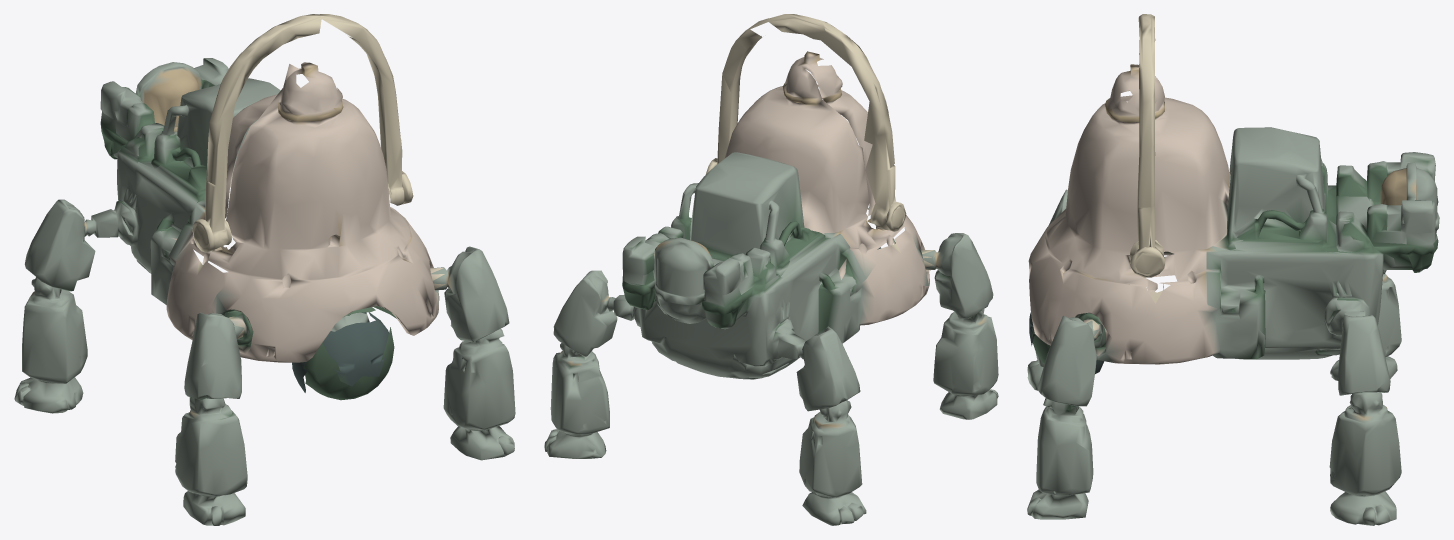
Rendered from body.glb.
The picture shows the model from 3 angles, left to right: view 1: azimuth 30°, elevation 25°; view 2: azimuth 150°, elevation 25°; view 3: azimuth 270°, elevation 25°; orthographic projection. The views are drawn at different scales.
Parts seen in each view (by area): view 1: bell walker tripo; view 2: bell walker tripo; view 3: bell walker tripo.
Part boxes in pixels (x1,y1,x2,y2): bell walker tripo: [14, 14, 515, 525]; bell walker tripo: [544, 14, 998, 525]; bell walker tripo: [1027, 14, 1439, 525].
Bounding box in the file's own units: 2.87 × 3.4 × 3.01.
